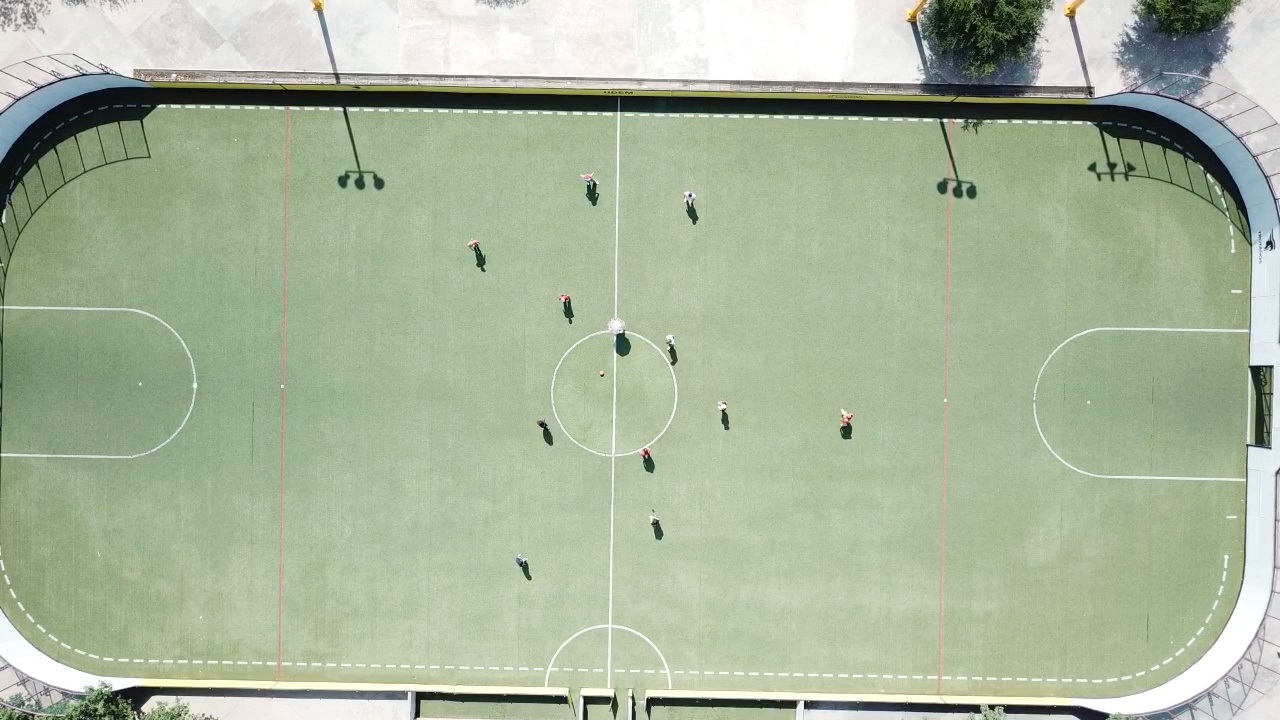ball: (599, 370, 604, 376)
player: (649, 506, 662, 536), (607, 317, 626, 335), (839, 408, 853, 427), (580, 170, 596, 186), (683, 191, 696, 206), (639, 448, 651, 463), (515, 554, 527, 566), (467, 239, 479, 250), (665, 334, 676, 346), (717, 401, 728, 412), (558, 293, 570, 303), (536, 419, 547, 429)
